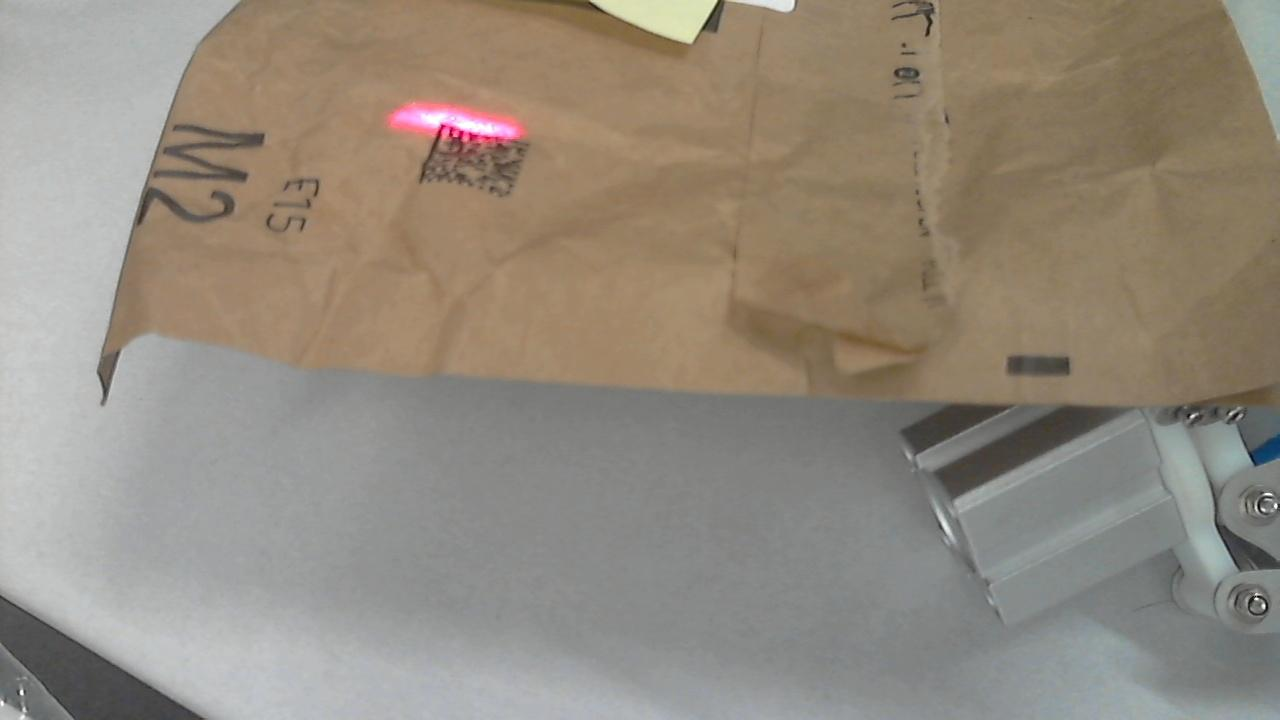Object Amazon recyclable paper mailer - Material paper - Color brown - Pdfname Z: (363, 84, 546, 159)
